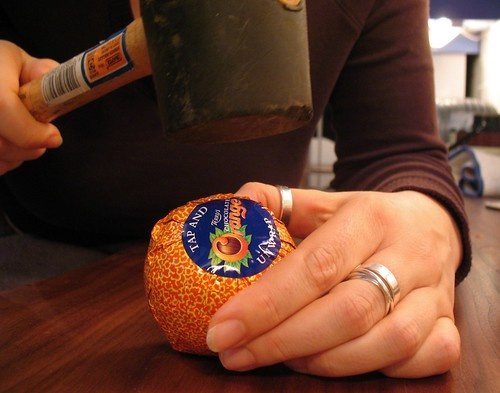hammer: (1, 1, 203, 141)
